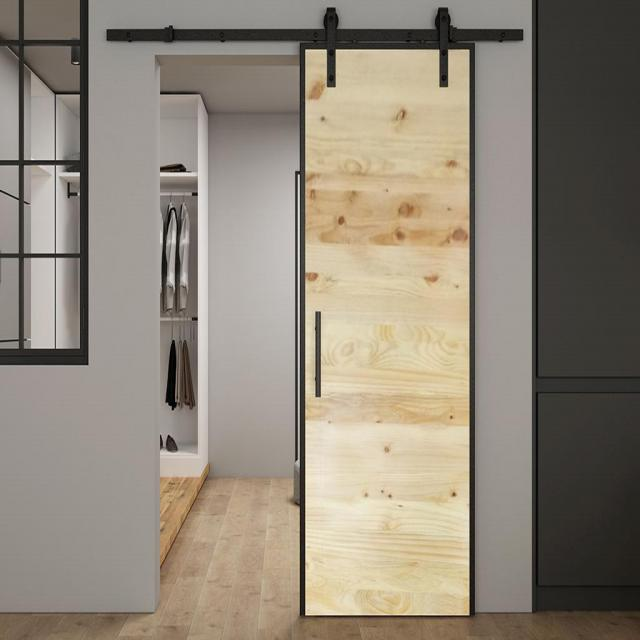open: (140, 21, 496, 634)
